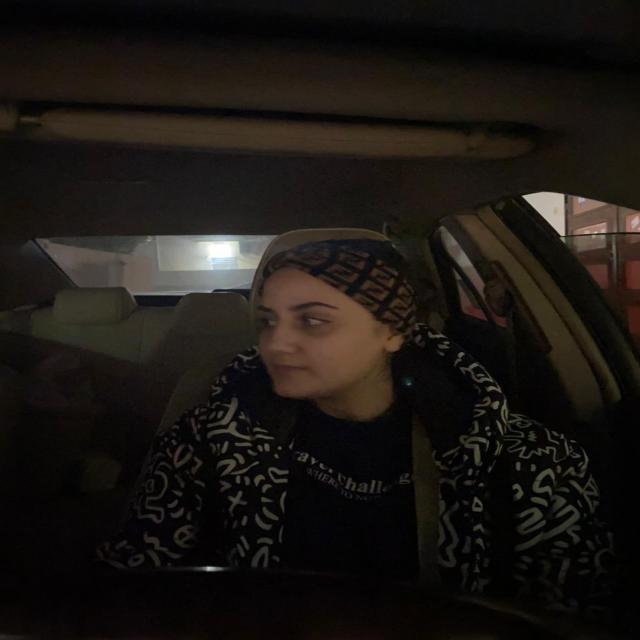LeftRight: (244, 234, 428, 403)
